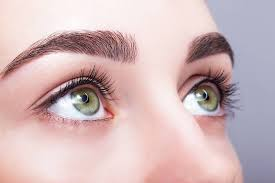pupil: (71, 88, 100, 116), (195, 86, 218, 112)
